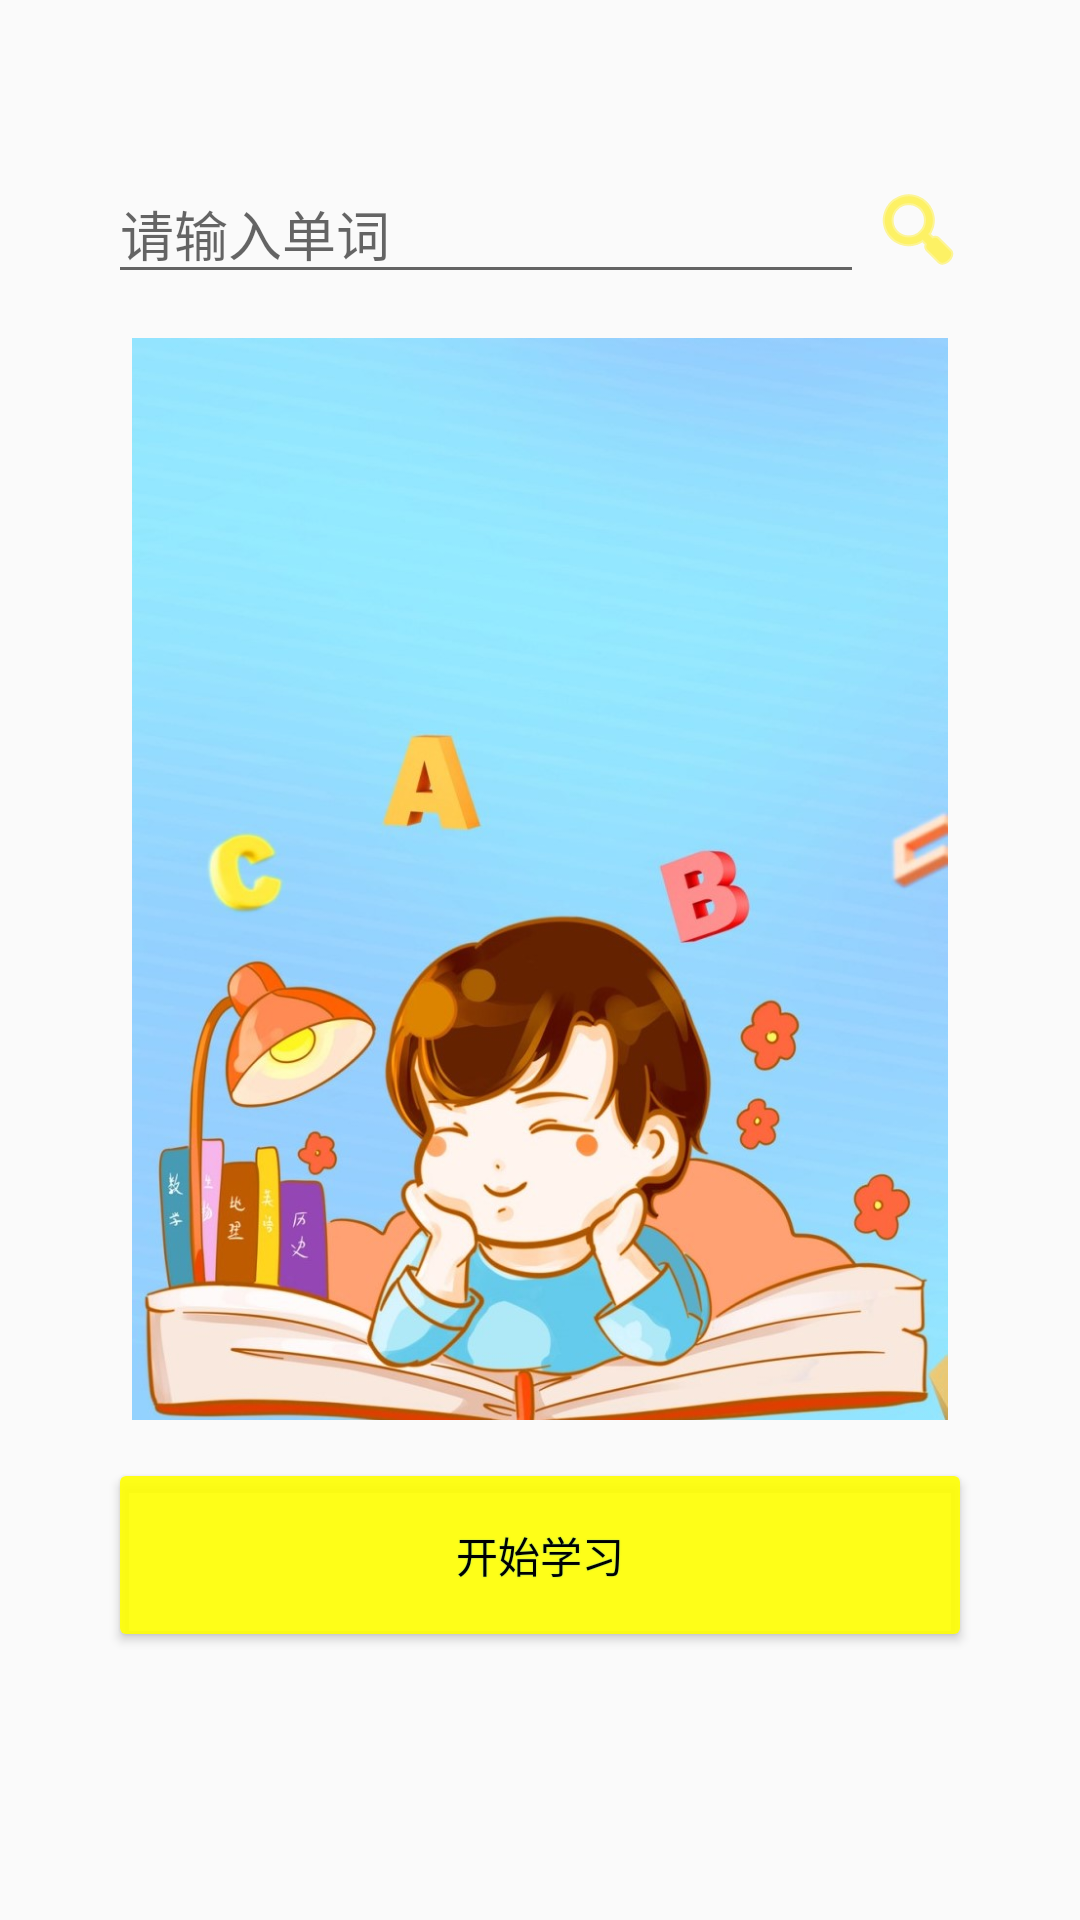

Icon bounding boxes for this 1080px×1920px phone screenshot, format (x1, y1, x2, y2):
search: (882, 194, 954, 265)
